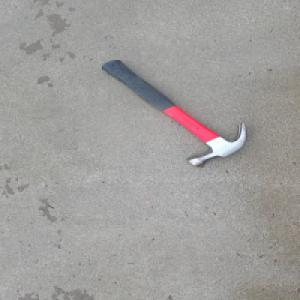Hammer: (96, 56, 247, 168)
